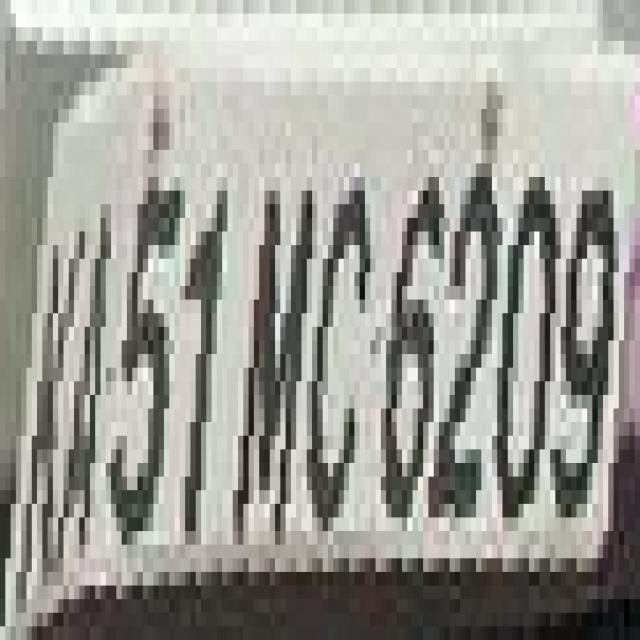license_plate: (26, 27, 640, 586)
